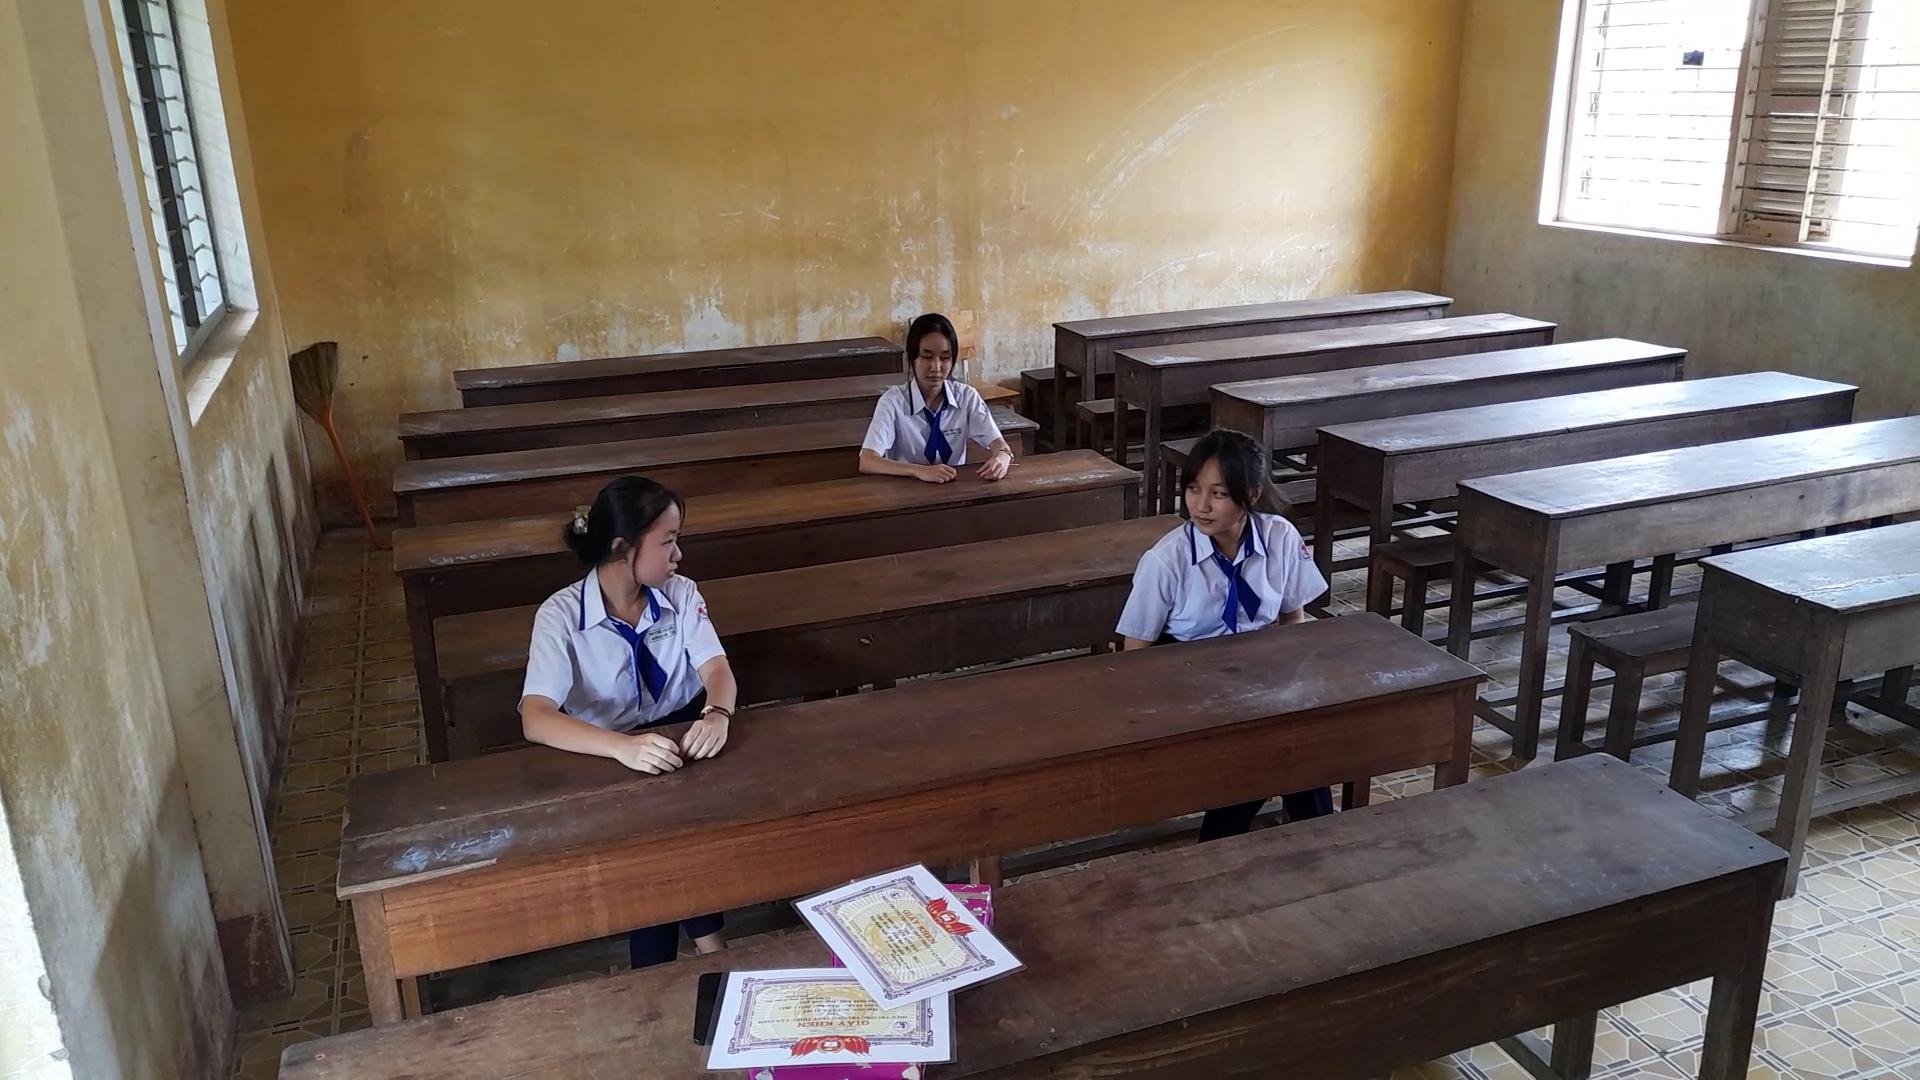Hand Under Table: (1269, 521, 1323, 642), (1118, 539, 1172, 659)
Look Around: (549, 459, 688, 605), (1159, 406, 1284, 545)
Normal: (840, 295, 1036, 489)
